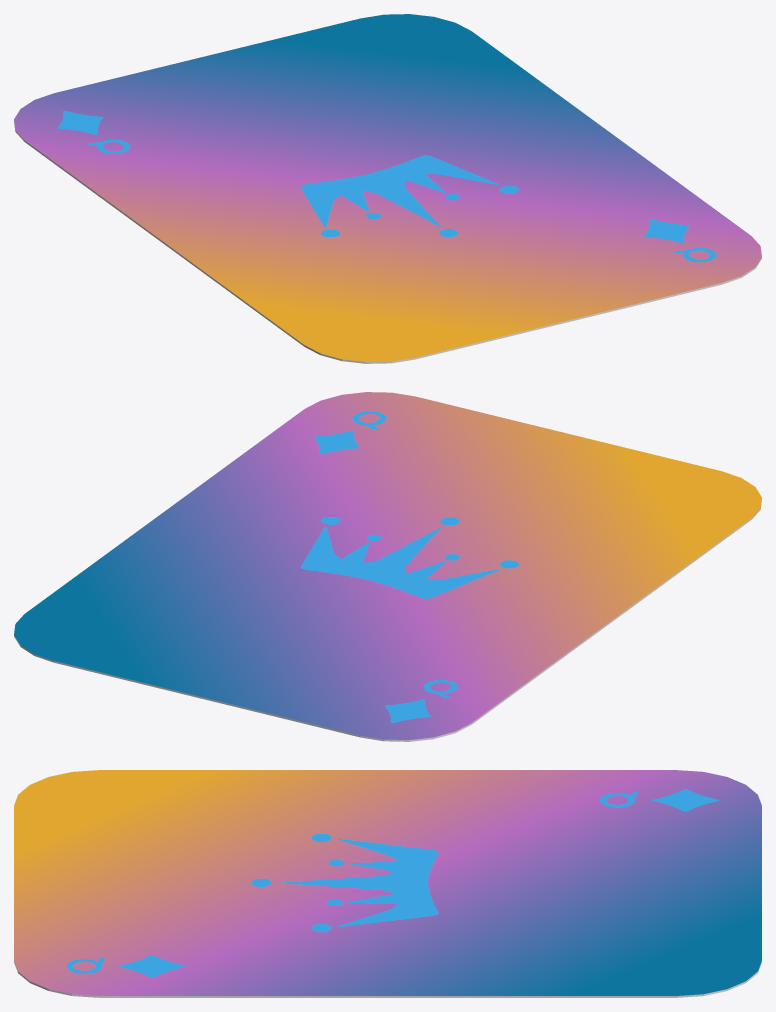
Rendered from cardFront.glb.
3 views of the same model, one above another, from view 1: azimuth 30°, elevation 25°; view 2: azimuth 150°, elevation 25°; view 3: azimuth 270°, elevation 25° (orthographic). The views are drawn at different scales.
Visible parts, largest first — view 1: Plan; view 2: Plan; view 3: Plan.
Part boxes in pixels (x1=…): Plan: x1=14, y1=14, x2=761, y2=363; Plan: x1=14, y1=392, x2=761, y2=741; Plan: x1=14, y1=770, x2=761, y2=997.
Size of the model in its own units: 0.127 by 0.0005 by 0.1778.
Materials: 1 (1 with a texture image).
